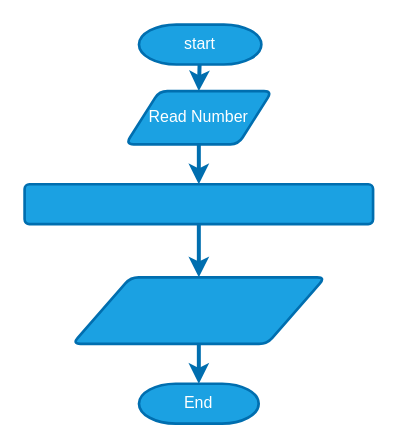
This 396x447 diagram has some shape labels left out. The centre of each missing label's shape, as x and y in pixels:
halfNumber = Number / 2 R = "Half of "+ Number +" is "+ halfNumber: pixel 198 203
print R: pixel 198 309
